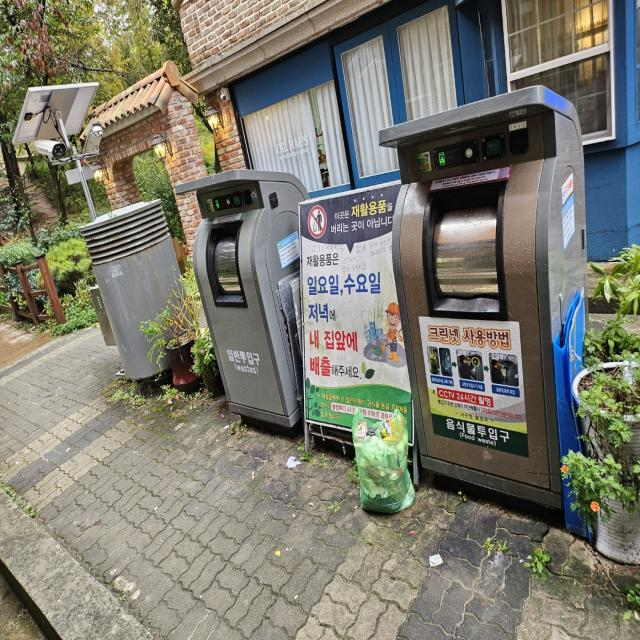CleanNet: (396, 90, 585, 508), (198, 171, 306, 430)
General Waste: (351, 409, 416, 520)
